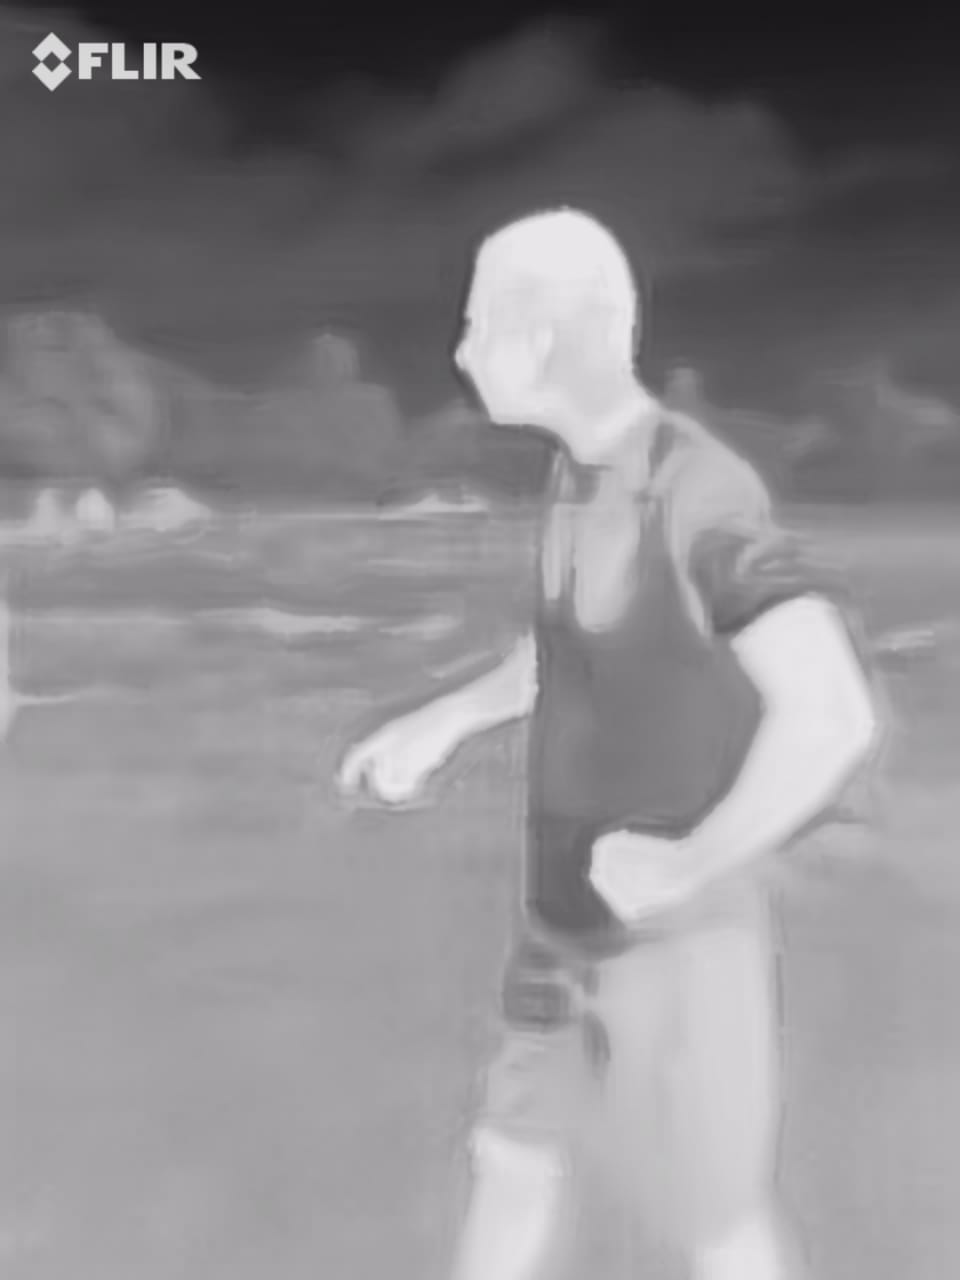head: (441, 196, 660, 458)
